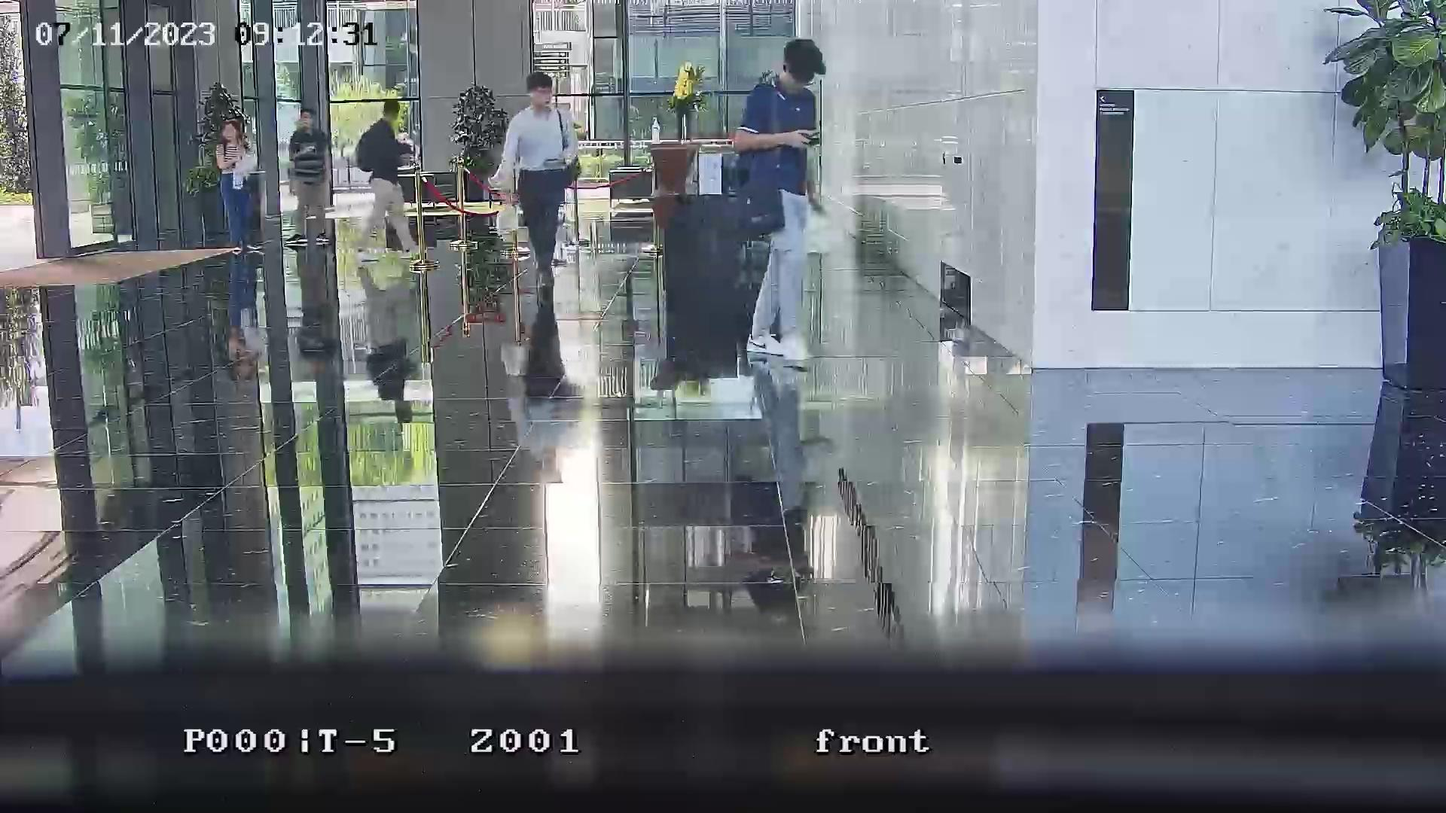person: (729, 37, 826, 357), (490, 72, 580, 292), (730, 38, 826, 198), (355, 99, 437, 270), (216, 117, 265, 255), (288, 107, 331, 242), (215, 117, 256, 249)
